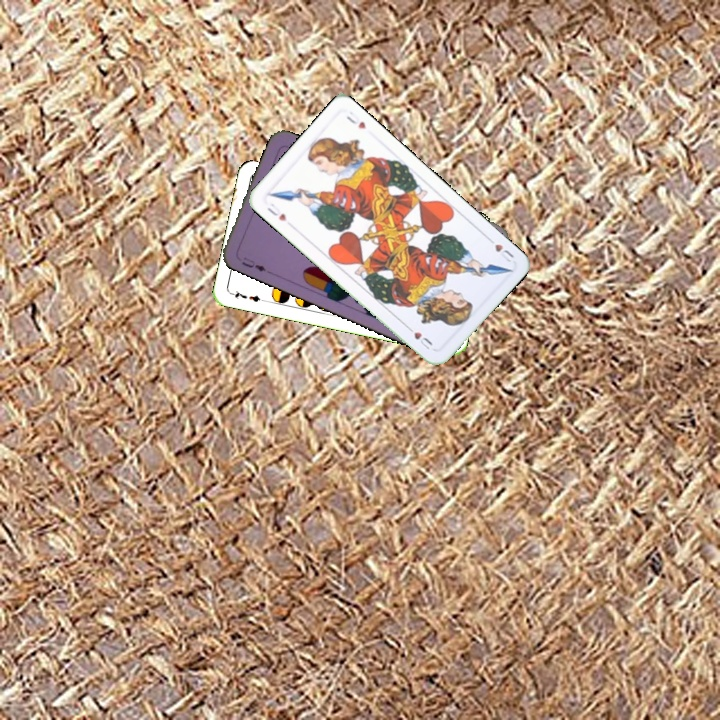E7: (227, 286, 267, 305)
EU: (237, 253, 272, 276)
HU: (483, 233, 517, 265), (263, 199, 289, 224)
